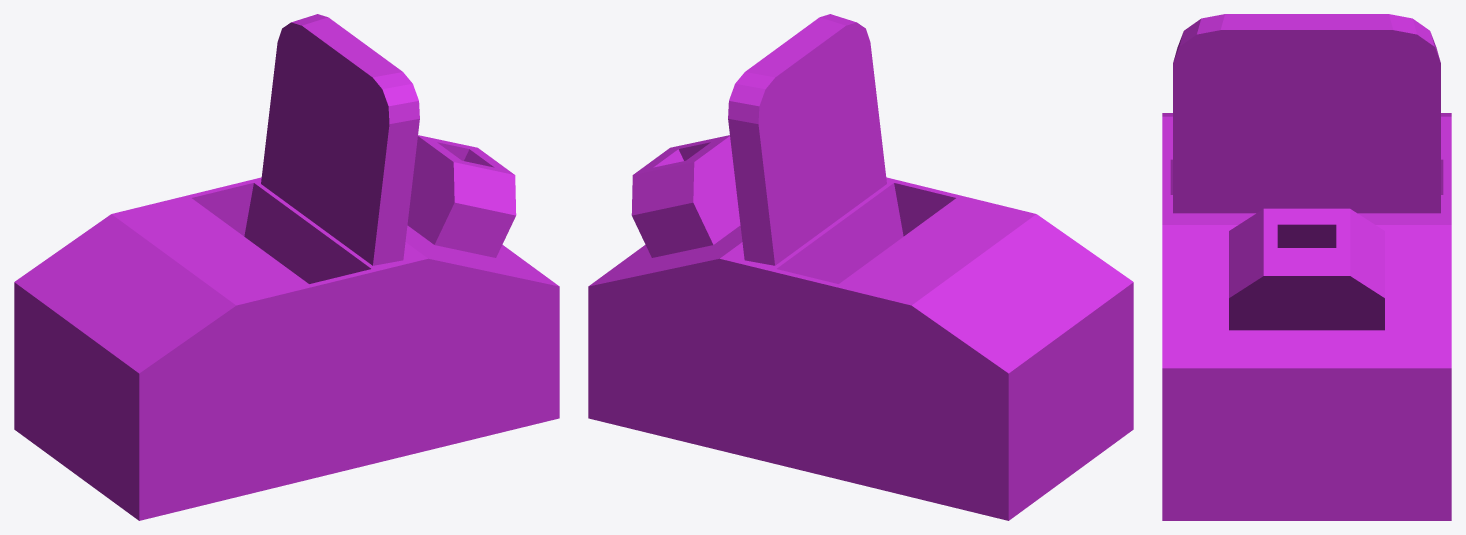
The model's file is PDA_Receiver.fbx.
3 views of the same model, side by side, from view 1: azimuth 30°, elevation 25°; view 2: azimuth 150°, elevation 25°; view 3: azimuth 270°, elevation 25° (orthographic). The views are drawn at different scales.
Parts seen in each view (by area): view 1: PDA_Receiver; view 2: PDA_Receiver; view 3: PDA_Receiver.
Part boxes in pixels (x1,y1,x2,y2): PDA_Receiver: (14, 14, 559, 520); PDA_Receiver: (588, 14, 1133, 520); PDA_Receiver: (1162, 14, 1451, 520).
Bounding box in the file's own units: 37.58 × 30.75 × 19.35.
